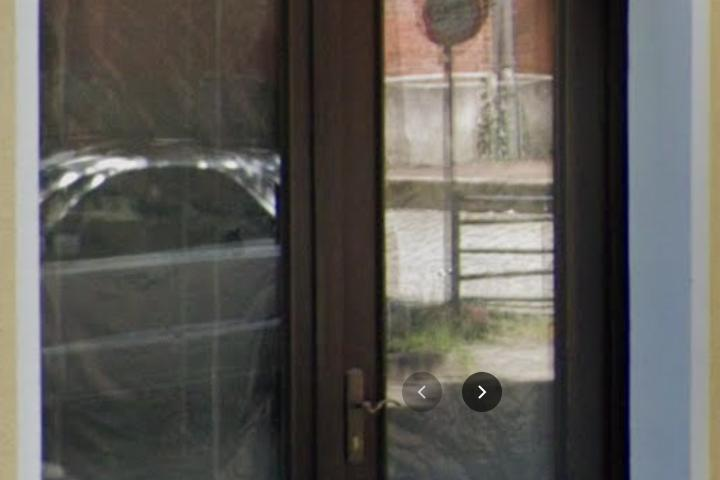google_maps: (463, 372, 502, 412), (403, 373, 442, 412)
traffic_sign: (423, 1, 485, 49)
